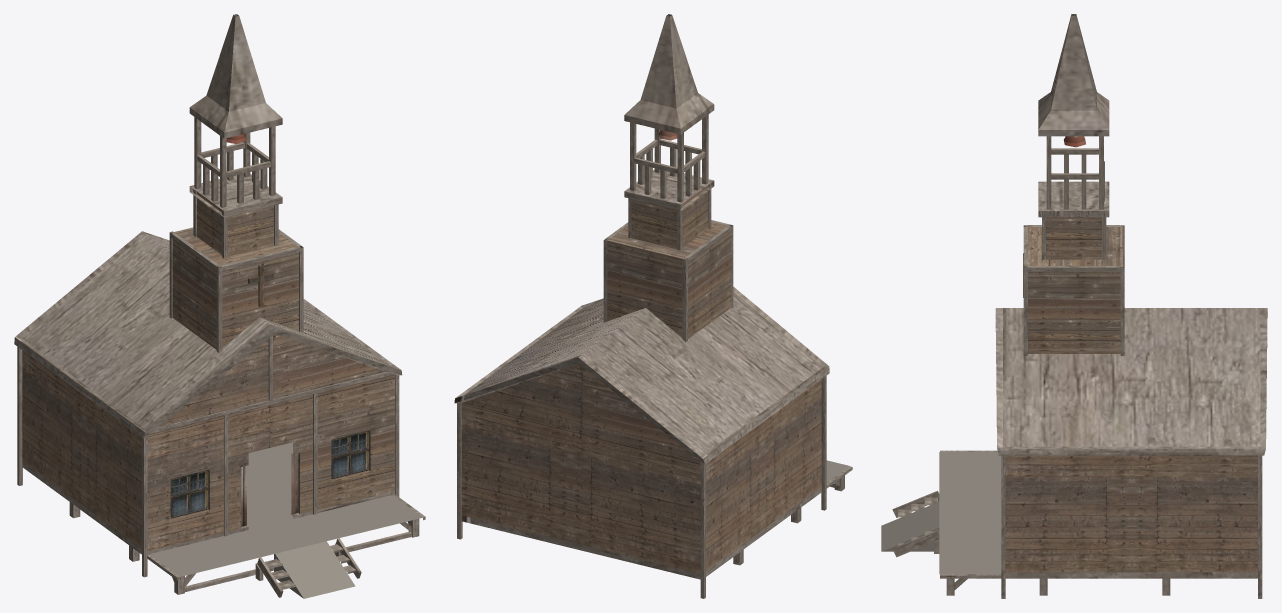
Rendered from church.access-v2.lod1.glb.
The picture shows the model from 3 angles, left to right: view 1: azimuth 30°, elevation 25°; view 2: azimuth 150°, elevation 25°; view 3: azimuth 270°, elevation 25°; orthographic projection. The views are drawn at different scales.
Parts seen in each view (by area): view 1: Object079_Material #30_0, Walkable floors and stairs; view 2: Object079_Material #30_0; view 3: Object079_Material #30_0, Walkable floors and stairs.
Boxes of the visible parts, x1,y1,x2,y2 form: Object079_Material #30_0: (14, 14, 425, 597); Walkable floors and stairs: (150, 442, 422, 598); Object079_Material #30_0: (454, 14, 852, 598); Object079_Material #30_0: (892, 14, 1267, 598); Walkable floors and stairs: (881, 452, 1001, 574).
Bounding box in the file's own units: 8.52 × 16 × 10.69.
2 materials, 1 textured.
